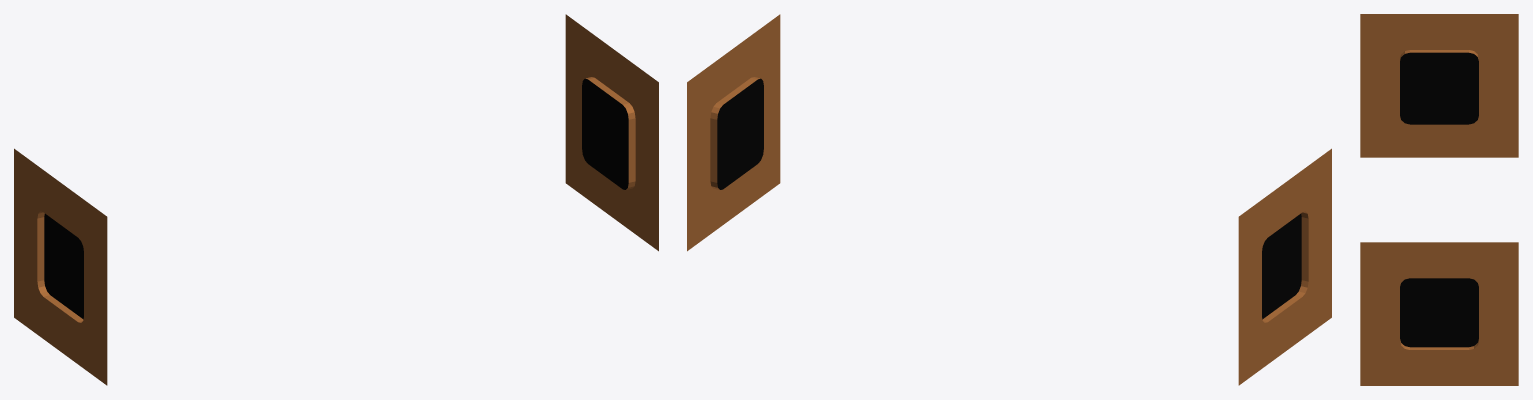
Rendered from ship_segment_cannon.fbx.
3 renders of one model, left to right at view 1: azimuth 30°, elevation 25°; view 2: azimuth 150°, elevation 25°; view 3: azimuth 270°, elevation 25°, orthographic. The views are drawn at different scales.
Visible parts, largest first — view 1: ship_cannondeck_segment; view 2: ship_cannondeck_segment; view 3: ship_cannondeck_segment.
Boxes of the visible parts, <box> form: ship_cannondeck_segment: <box>14,14,658,385</box>; ship_cannondeck_segment: <box>687,14,1331,385</box>; ship_cannondeck_segment: <box>1360,14,1518,385</box>.
Size of the model in its own units: 3.41 by 1 by 1.
